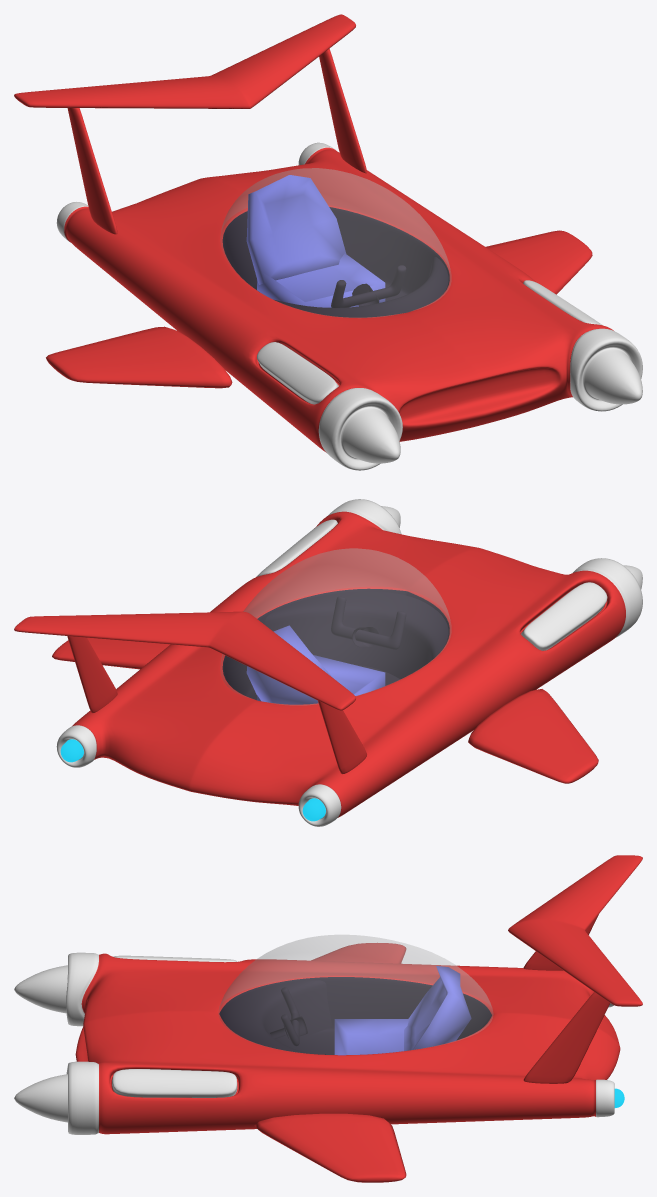
File: hovercar.glb
3 renders of one model, top to bottom at view 1: azimuth 30°, elevation 25°; view 2: azimuth 150°, elevation 25°; view 3: azimuth 270°, elevation 25°, orthographic. The views are drawn at different scales.
Visible parts, largest first — view 1: Hovercar, Cylinder.003, Cylinder.006, Cylinder.002, Plane.001, Cylinder.001, Plane, Cylinder.004, Plane.002; view 2: Hovercar, Cylinder.003, Cylinder.002, Cylinder.006, Cylinder.004, Cylinder.001, Plane.001, Plane, Plane.002; view 3: Hovercar, Cylinder.003, Cylinder.006, Cylinder.002, Cylinder.004, Cylinder.001, Plane.001, Plane, Plane.002.
Boxes of the visible parts, x1,y1,x2,y2 form: Hovercar: (56, 142, 642, 470); Cylinder.003: (220, 168, 451, 317); Cylinder.006: (46, 230, 592, 388); Cylinder.002: (14, 14, 355, 108); Plane.001: (246, 175, 346, 284); Cylinder.001: (67, 48, 366, 234); Plane: (257, 253, 385, 307); Cylinder.004: (274, 257, 448, 317); Plane.002: (331, 265, 406, 307); Hovercar: (56, 499, 642, 826); Cylinder.003: (220, 548, 451, 705); Cylinder.002: (14, 611, 355, 710); Cylinder.006: (52, 637, 598, 783); Cylinder.004: (265, 591, 448, 679); Cylinder.001: (67, 636, 366, 774); Plane.001: (246, 625, 332, 704); Plane: (257, 655, 385, 701); Plane.002: (331, 596, 406, 649); Hovercar: (14, 952, 624, 1134); Cylinder.003: (218, 935, 493, 1054); Cylinder.006: (254, 943, 406, 1182); Cylinder.002: (508, 855, 642, 1006); Cylinder.004: (223, 980, 331, 1053); Cylinder.001: (523, 914, 610, 1083); Plane.001: (404, 966, 471, 1050); Plane: (334, 1019, 408, 1055); Plane.002: (281, 987, 299, 1046).
Bounding box in the file's own units: 5.74 × 1.92 × 6.49.
